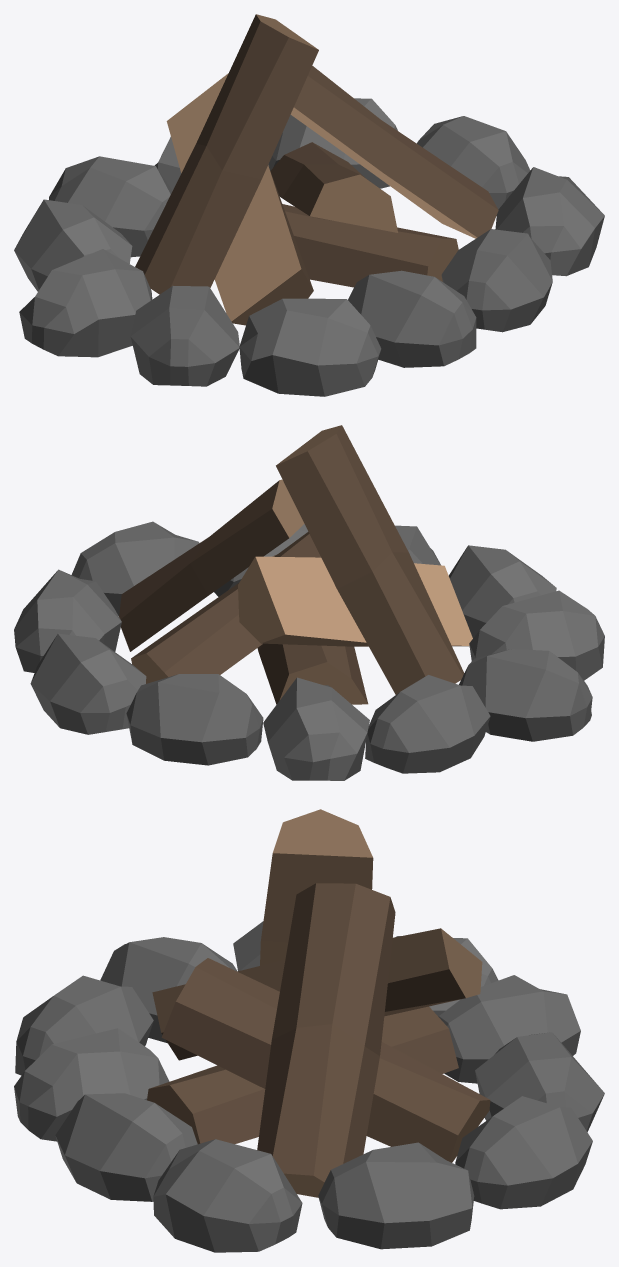
The model's file is Campfire.fbx.
The picture shows the model from 3 angles, top to bottom: view 1: azimuth 30°, elevation 25°; view 2: azimuth 150°, elevation 25°; view 3: azimuth 270°, elevation 25°; orthographic projection. The views are drawn at different scales.
Parts seen in each view (by area): view 1: Campfire, Logs; view 2: Campfire, Logs; view 3: Campfire, Logs.
Part boxes in pixels (x1,y1,x2,y2): Campfire: (14, 98, 604, 396); Logs: (135, 14, 498, 325); Campfire: (14, 521, 604, 780); Logs: (119, 425, 472, 704); Campfire: (14, 921, 604, 1252); Logs: (147, 809, 490, 1197).
Size of the model in its own units: 2.26 by 1.05 by 1.94.
